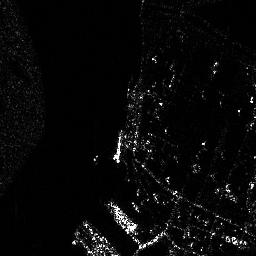ship: (79, 218, 117, 256), (108, 200, 138, 234), (112, 130, 125, 164)
